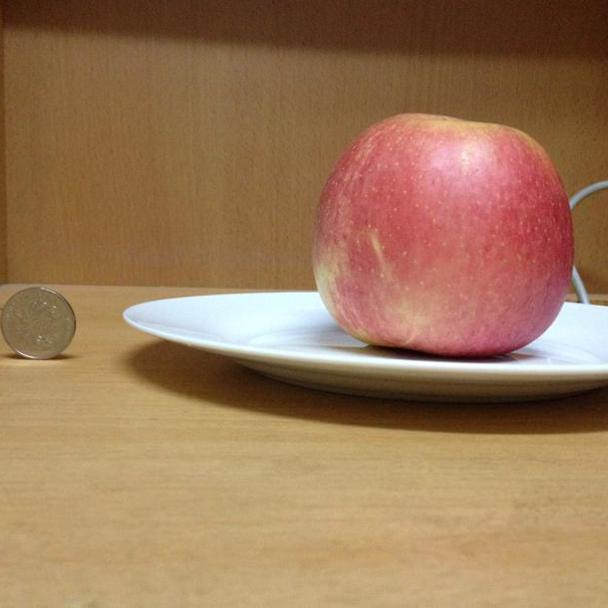apple: (311, 112, 574, 358)
